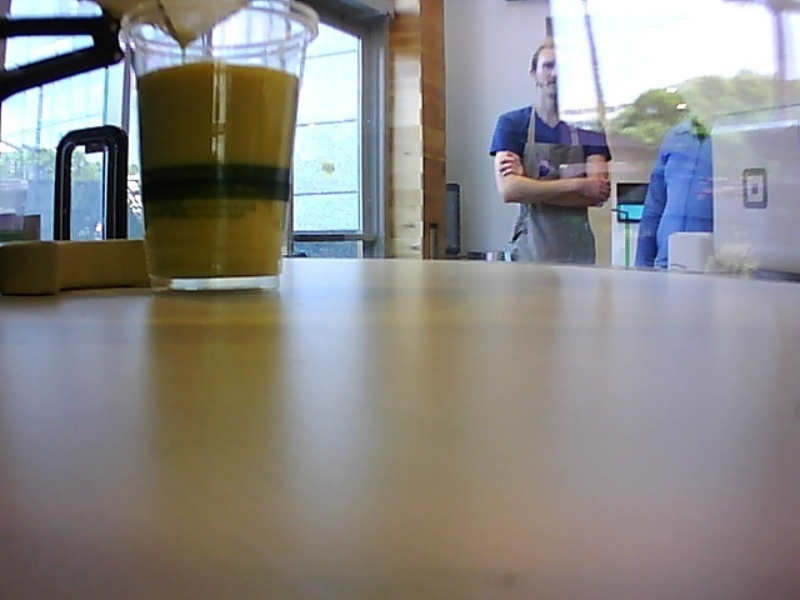cup: (112, 1, 321, 290)
limit: (131, 56, 304, 83)
